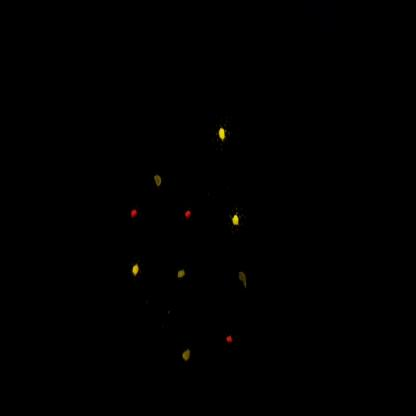PE: (119, 251, 148, 295), (213, 113, 235, 153), (226, 202, 248, 239)
PET: (222, 322, 240, 362), (183, 200, 202, 234), (125, 202, 143, 232)
PP: (229, 260, 252, 298), (169, 259, 191, 291), (179, 336, 197, 370), (150, 163, 168, 193)
